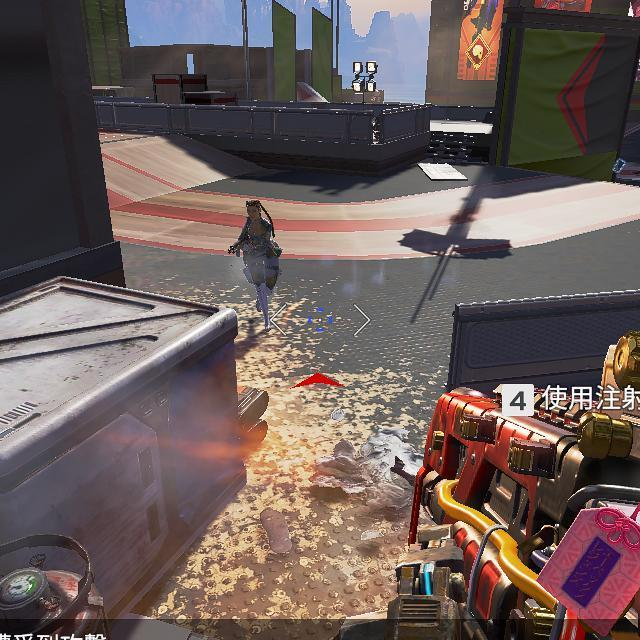avatar: (228, 199, 283, 332)
